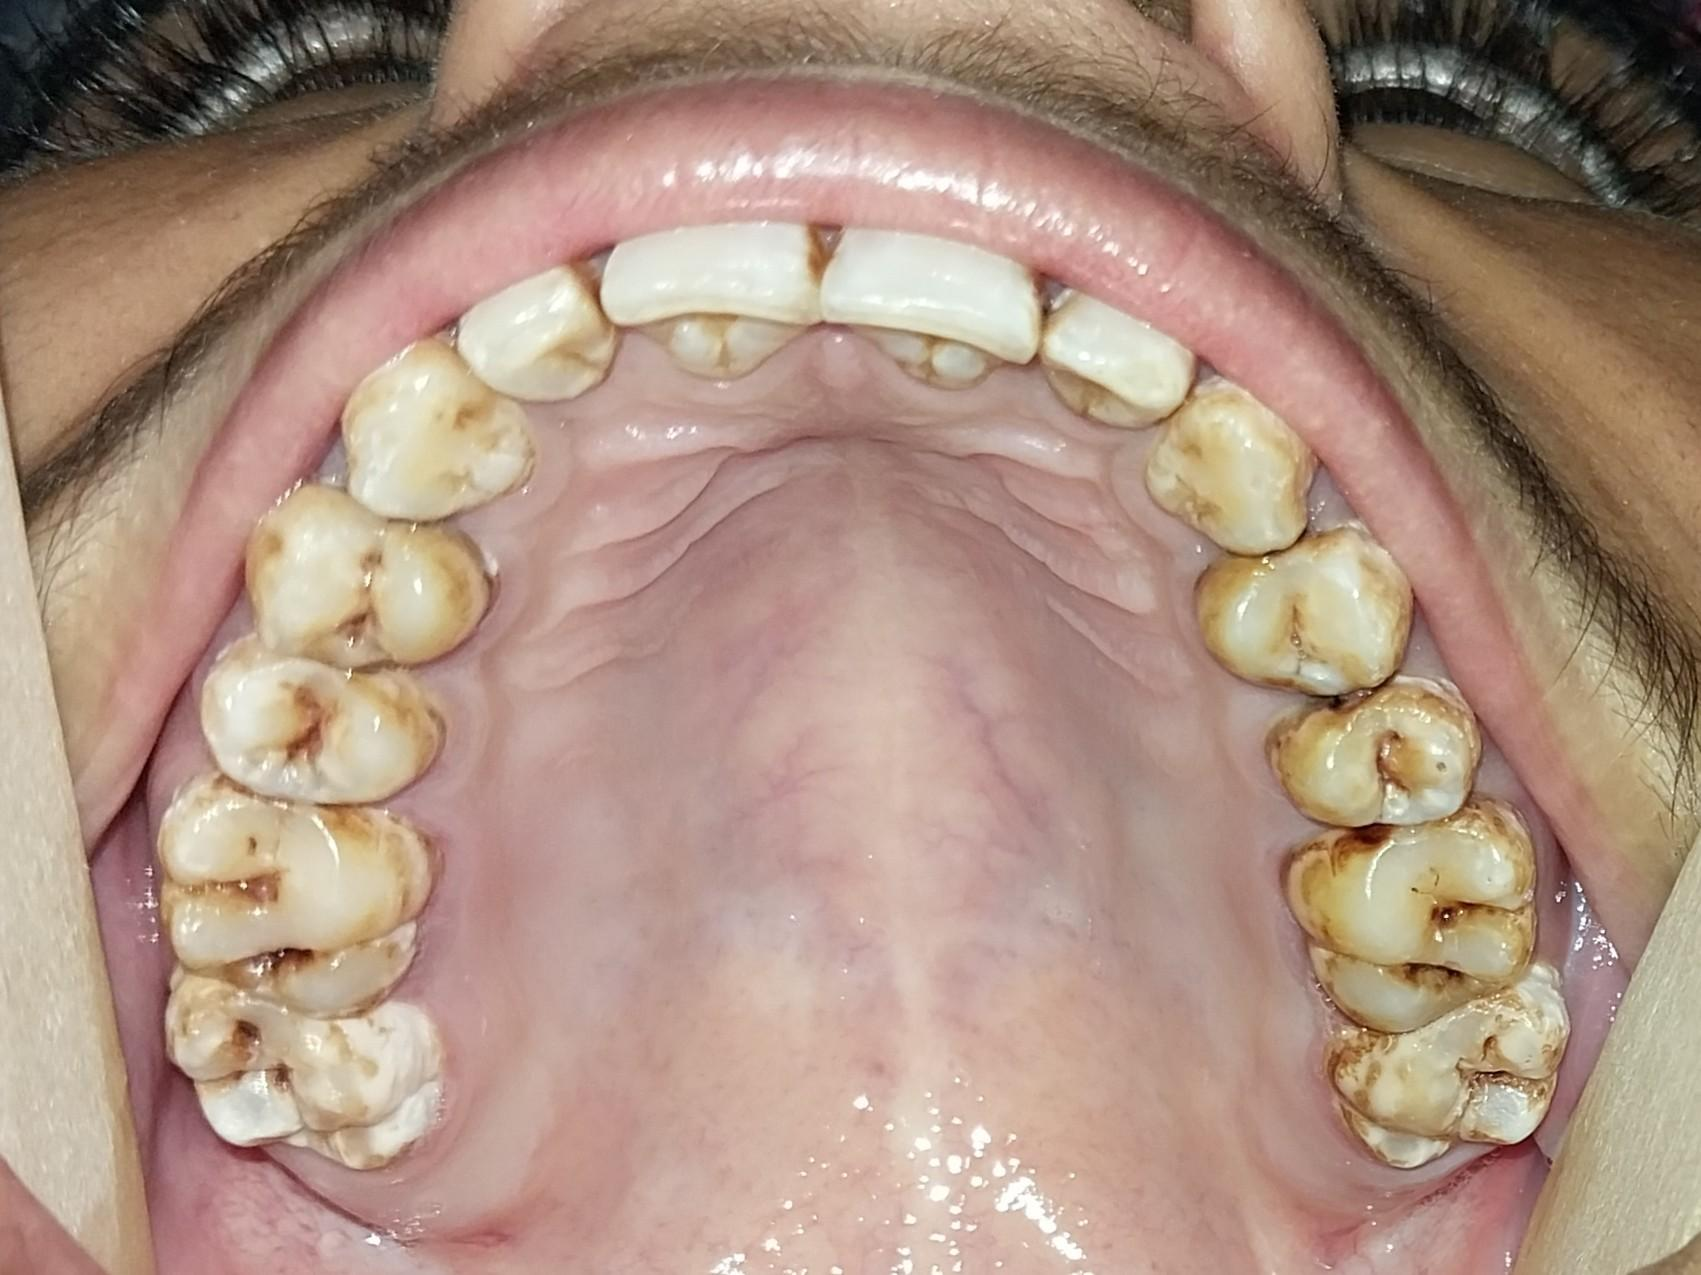D: (147, 778, 425, 1017), (1291, 805, 1538, 1037), (162, 976, 446, 1175), (1336, 978, 1566, 1170), (1273, 694, 1485, 828)
